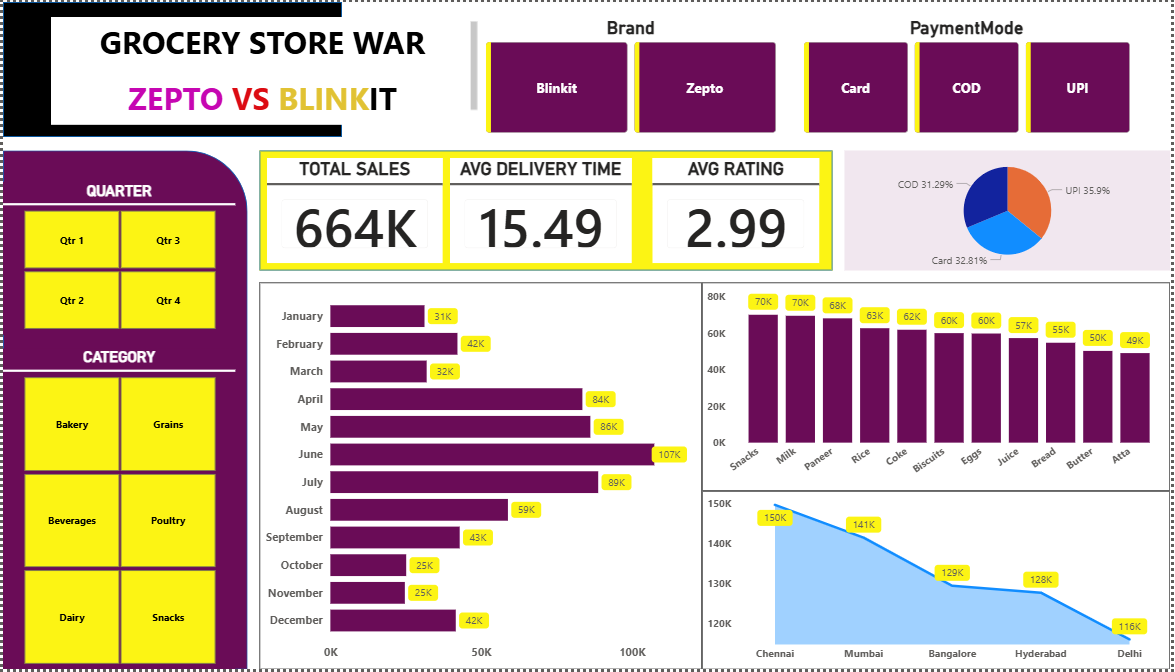

What the dashboard file says about the page in this screenshot:
{"tool":"powerbi","page":{"name":"Page 1","canvas":[1400,800],"ordinal":0},"visuals":[{"type":"shape","box":[0,0,406.6,161.9],"z":0},{"type":"shape","box":[0,178.1,293.3,622.5],"z":1000},{"type":"textbox","box":[57.6,18,516.4,129.5],"z":2000},{"type":"advancedSlicerVisual","fields":{"Values":["Table2.PaymentMode"]},"box":[955.3,18,401.2,143.9],"z":3000},{"type":"advancedSlicerVisual","fields":{"Values":["Table2.Brand"]},"box":[573.9,18,358,143.9],"z":4000},{"type":"shape","box":[307.7,178.1,687.3,143.9],"z":5000},{"type":"cardVisual","title":"TOTAL SALES","fields":{"Data":["Sum(Table2.Amount)"]},"box":[316.6,187.1,210.5,125.9],"z":6000},{"type":"cardVisual","title":"AVG DELIVERY TIME","fields":{"Data":["Avg(Table2.DeliveryTime(min))"]},"box":[536.1,187.1,217.7,125.9],"z":7000},{"type":"cardVisual","title":"AVG RATING","fields":{"Data":["Avg(Table2.Rating)"]},"box":[779,187.1,199.7,125.9],"z":8000},{"type":"slicer","title":"QUARTER","fields":{"Values":["Table2.Date.Variation.Date Hierarchy.Quarter"]},"box":[0,215.9,278.9,183.5],"z":9000},{"type":"slicer","title":"CATEGORY","fields":{"Values":["Table2.Category"]},"box":[0,415.6,278.9,385],"z":10000},{"type":"clusteredBarChart","fields":{"Category":["Table2.Date.Variation.Date Hierarchy.Month"],"Y":["Sum(Table2.Amount)"]},"box":[307.7,336.4,530.7,464.2],"z":11000},{"type":"columnChart","fields":{"Category":["Table2.Product"],"Y":["Sum(Table2.Amount)"]},"box":[838.4,336.4,561.3,250.1],"z":12000},{"type":"areaChart","fields":{"Category":["Table2.City"],"Y":["Sum(Table2.Amount)"]},"box":[838.4,586.5,561.3,214.1],"z":13000},{"type":"pieChart","fields":{"Category":["Table2.PaymentMode"],"Y":["Sum(Table2.Amount)"]},"box":[1009.3,178.1,390.4,143.9],"z":14000}]}

Visuals, with their boxes in screenshot pixels (x1, y1, x2, y2), scaled from the page's 1400x800 canvas onto the 1175x672 screenshot:
shape: crop(0, 0, 341, 136)
shape: crop(0, 150, 246, 671)
textbox: crop(48, 15, 482, 124)
advancedSlicerVisual - Table2.PaymentMode: crop(802, 15, 1138, 136)
advancedSlicerVisual - Table2.Brand: crop(482, 15, 782, 136)
shape: crop(258, 150, 835, 270)
"TOTAL SALES" cardVisual: crop(266, 157, 442, 263)
"AVG DELIVERY TIME" cardVisual: crop(450, 157, 633, 263)
"AVG RATING" cardVisual: crop(654, 157, 821, 263)
"QUARTER" slicer: crop(0, 181, 234, 335)
"CATEGORY" slicer: crop(0, 349, 234, 671)
clusteredBarChart - Table2.Date.Variation.Date Hierarchy.Month x Sum(Table2.Amount): crop(258, 283, 704, 671)
columnChart - Table2.Product x Sum(Table2.Amount): crop(704, 283, 1174, 493)
areaChart - Table2.City x Sum(Table2.Amount): crop(704, 493, 1174, 671)
pieChart - Table2.PaymentMode x Sum(Table2.Amount): crop(847, 150, 1174, 270)
